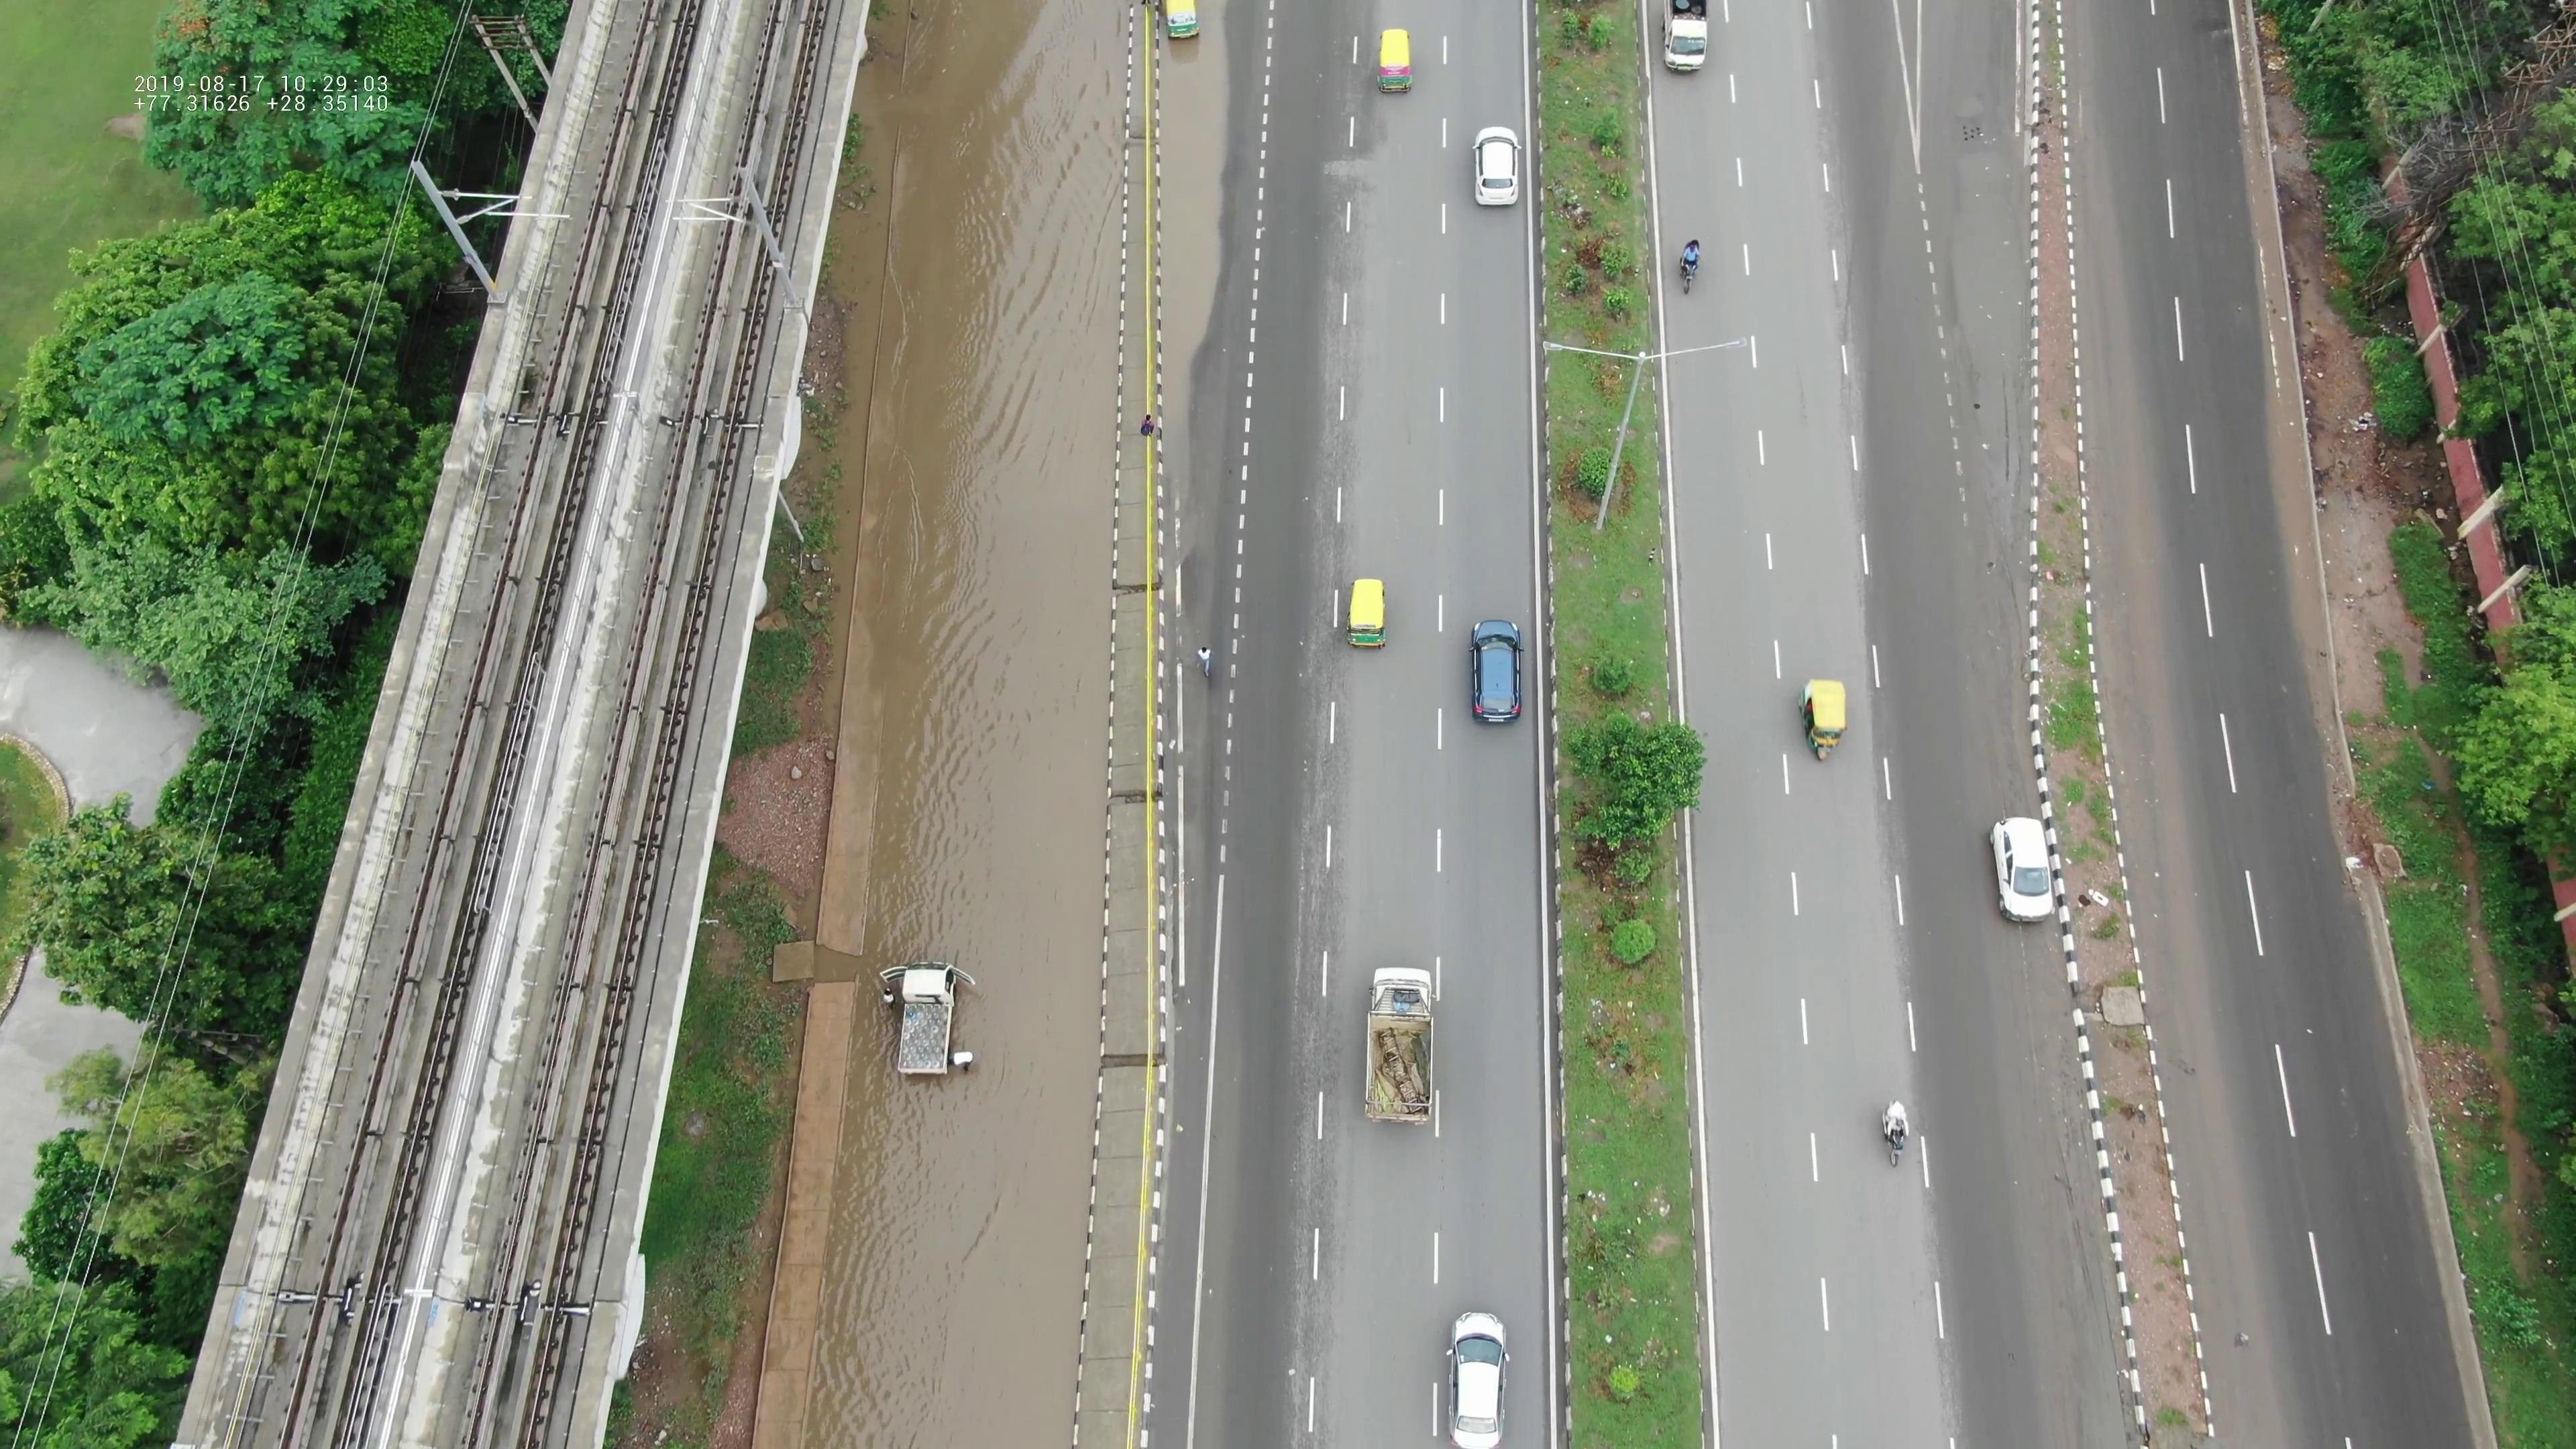Muddy_road: (2008, 1021, 2137, 1435), (2089, 472, 2201, 881)
Ravelling: (1283, 745, 1366, 1143), (1320, 239, 1384, 531)
Waterlogging: (803, 789, 1138, 1445), (870, 78, 1150, 775), (1937, 92, 2028, 508)
